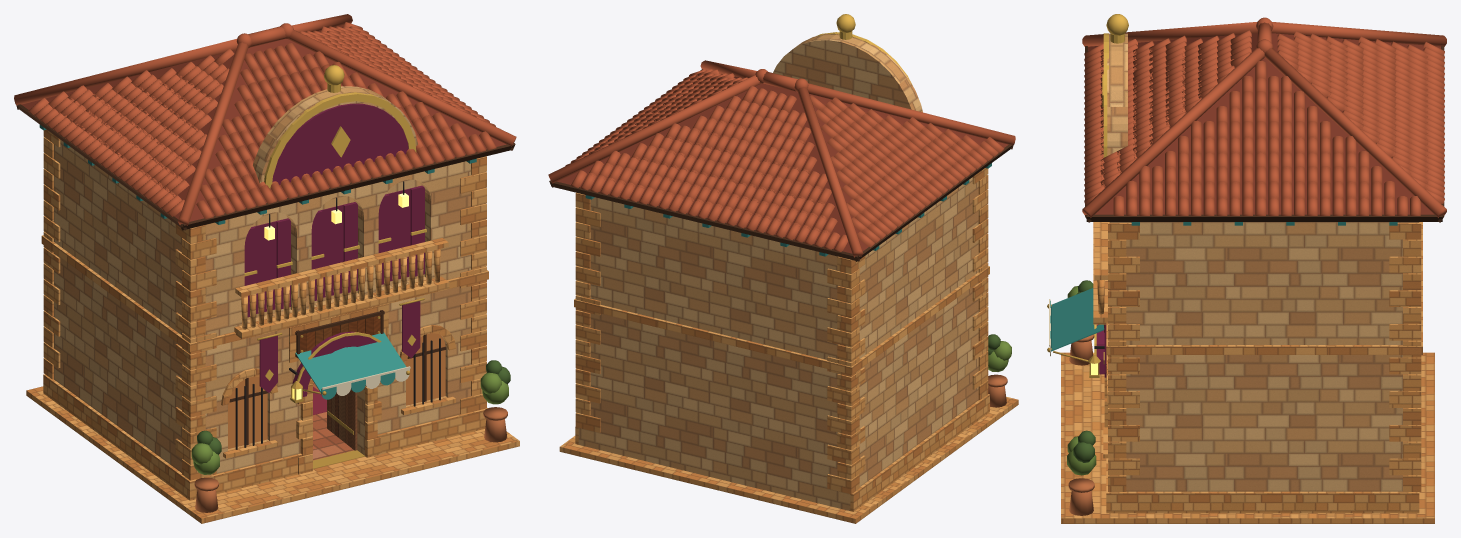
Rendered from house_medium_loggia.glb.
The picture shows the model from 3 angles, left to right: view 1: azimuth 30°, elevation 25°; view 2: azimuth 150°, elevation 25°; view 3: azimuth 270°, elevation 25°; orthographic projection. The views are drawn at different scales.
Visible parts, largest first — view 1: exterior_walls, roof_tiles, exterior_trim, facade_details, roof_structure, windows, opt_awning, planters, door_frame, sign_board, door_leaf, interior_floor (+1 smaller); view 2: exterior_walls, roof_tiles, exterior_trim, roof_structure, planters; view 3: exterior_walls, roof_tiles, exterior_trim, roof_structure, planters, opt_awning, facade_details.
Part boxes in pixels (x1,y1,x2,y2): exterior_walls: (53,140,471,473); roof_tiles: (14,14,516,225); exterior_trim: (26,129,519,523); facade_details: (234,181,449,396); roof_structure: (15,25,515,230); windows: (228,333,446,449); opt_awning: (295,332,410,399); planters: (191,360,510,512); door_frame: (296,378,381,474); sign_board: (295,310,384,357); door_leaf: (327,389,357,450); interior_floor: (312,382,353,460); exterior_walls: (578,177,978,510); roof_tiles: (548,60,1015,257); exterior_trim: (559,168,1018,523); roof_structure: (549,14,1014,261); planters: (988,334,1011,407); exterior_walls: (1110,222,1419,491); roof_tiles: (1082,17,1446,217); exterior_trim: (1061,222,1434,523); roof_structure: (1085,14,1444,225); planters: (1067,280,1096,515); opt_awning: (1047,288,1106,367); facade_details: (1093,222,1107,377).
Bounding box in the file's own units: 8.07 × 9.12 × 7.75.
23 materials, 5 textured.
